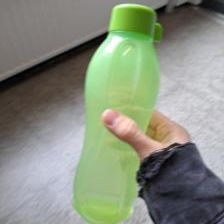bottle: (70, 3, 168, 223)
